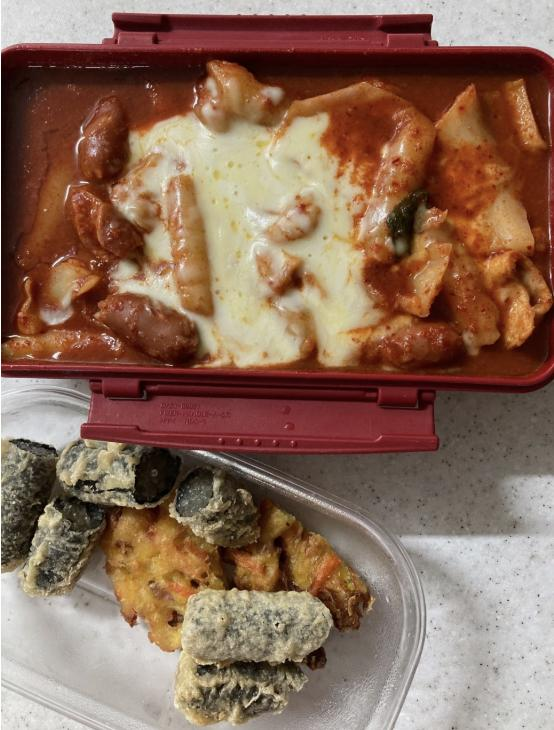Lunch Box: (1, 14, 553, 453), (1, 386, 424, 729)
